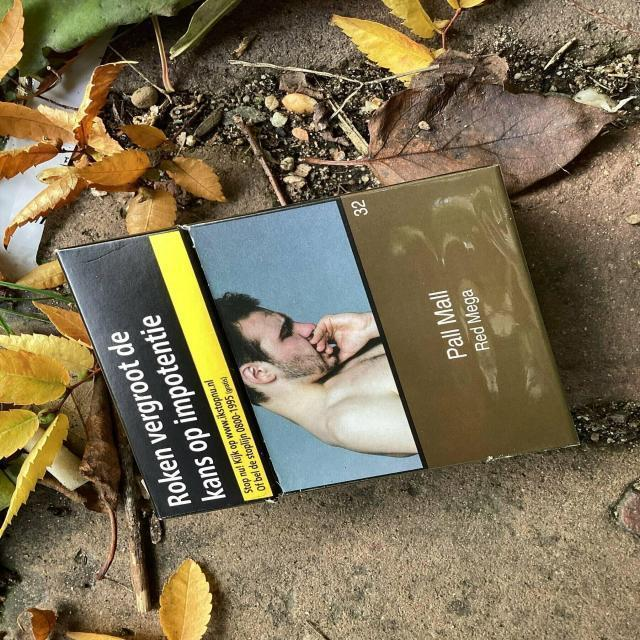Paper: (49, 156, 590, 524)
